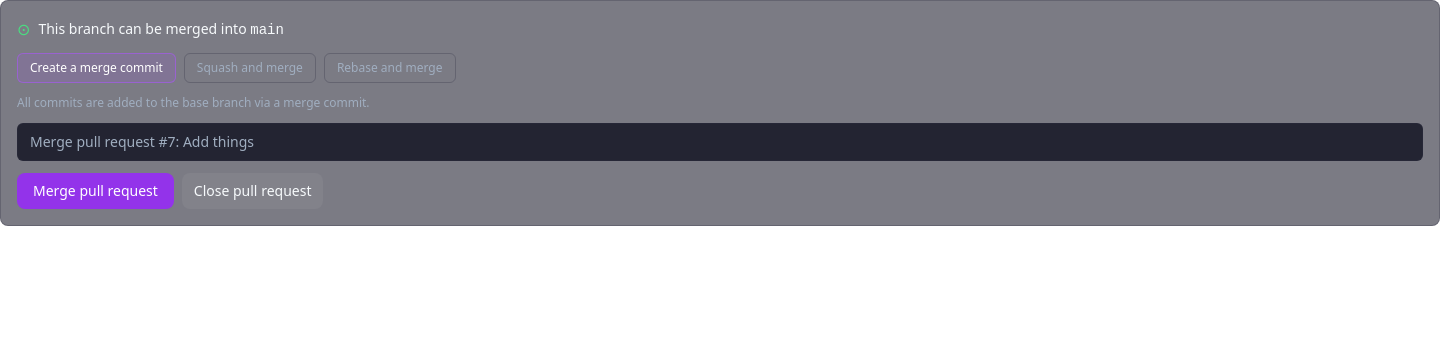
Test case: MergeBox › lists conflicting files from a 409
The width and height of the screenshot is (1440, 362).
Click the button "Merge pull request" at (95,191), box [17,173,174,209]
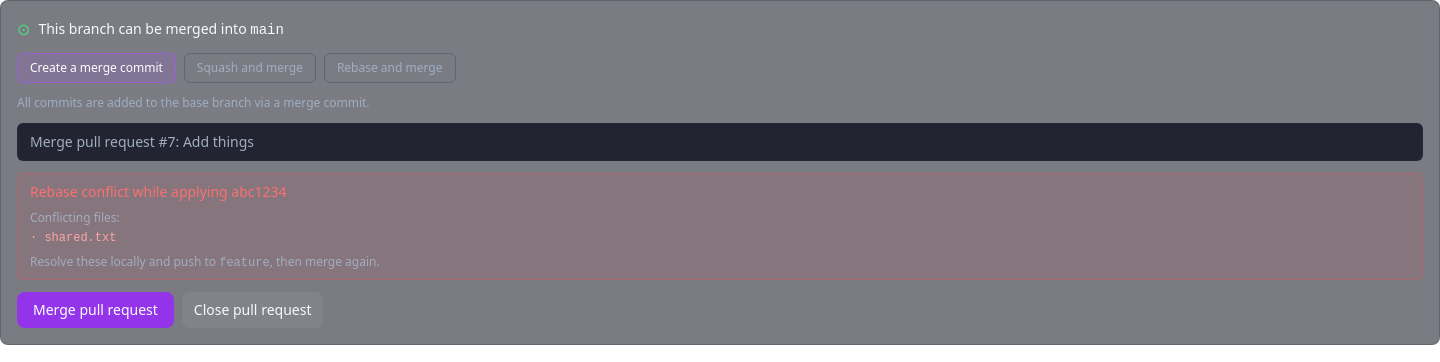
Expected: the text "Rebase conflict while applying abc1234" is shown, [30,182,287,201]
Expected: the list item "· shared.txt" is shown, [30,231,116,245]
